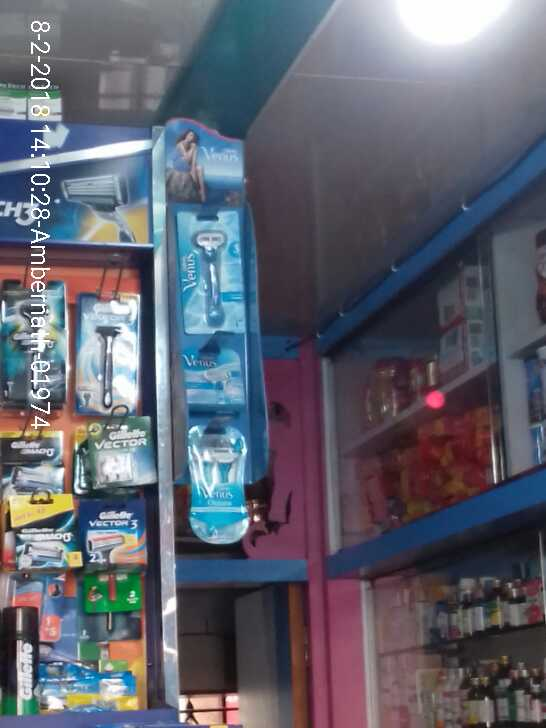beauty: (171, 207, 251, 329), (185, 416, 252, 543), (77, 298, 142, 409), (1, 605, 44, 724), (77, 422, 152, 486), (12, 497, 76, 570), (176, 343, 249, 406), (82, 501, 147, 563), (1, 437, 57, 491)
